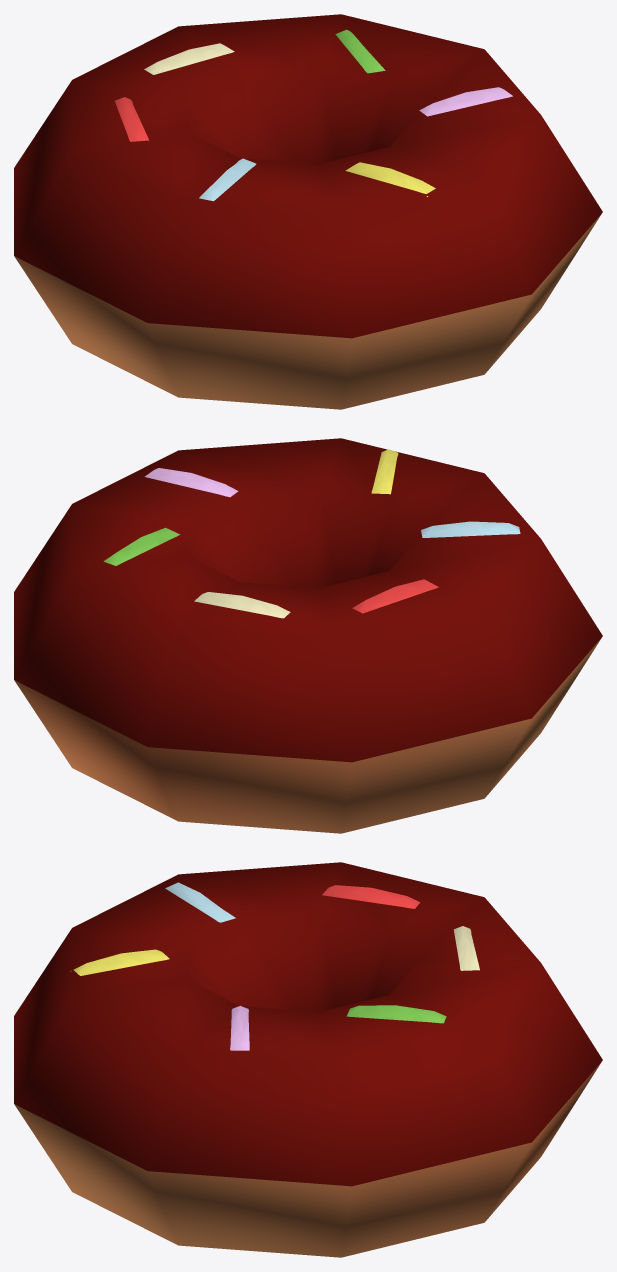
The model's file is Doughnut_C_2.FBX.
3 views of the same model, one above another, from view 1: azimuth 30°, elevation 25°; view 2: azimuth 150°, elevation 25°; view 3: azimuth 270°, elevation 25° (orthographic).
Visible parts, largest first — view 1: Doughnut; view 2: Doughnut; view 3: Doughnut.
Boxes of the visible parts, x1,y1,x2,y2 form: Doughnut: (14, 14, 602, 409); Doughnut: (14, 438, 602, 833); Doughnut: (14, 862, 602, 1257).
Bounding box in the file's own units: 52.77 × 19.96 × 51.97.
